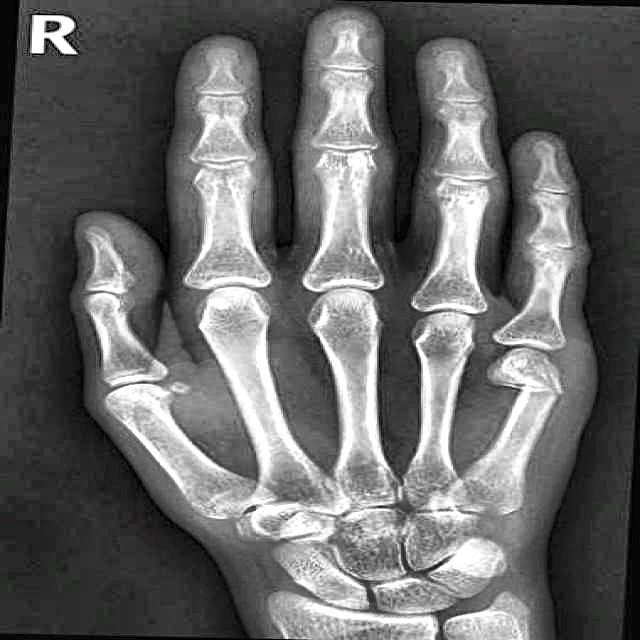Segmental: (489, 331, 591, 416)
